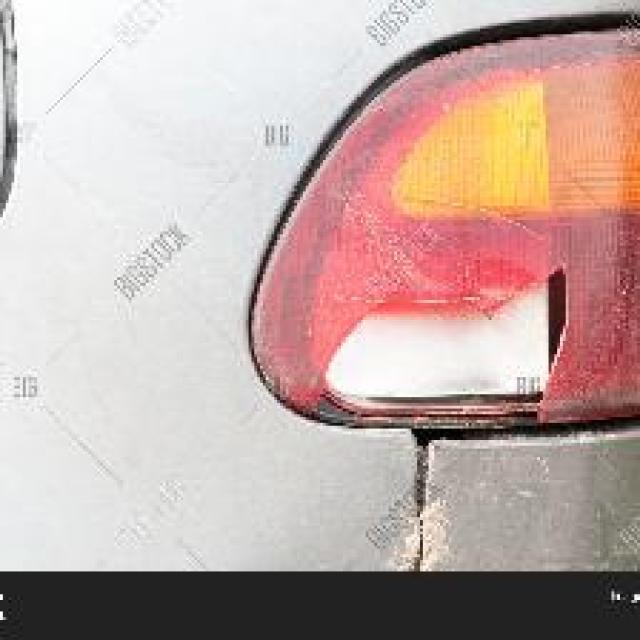tail_lamp_minor: (257, 20, 637, 426)
